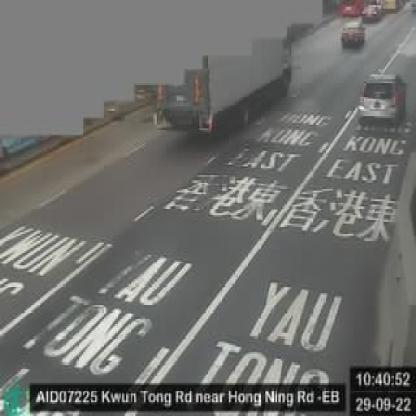Car: (358, 66, 408, 125), (336, 21, 366, 54), (360, 0, 385, 26)
Truck: (154, 16, 296, 140)
